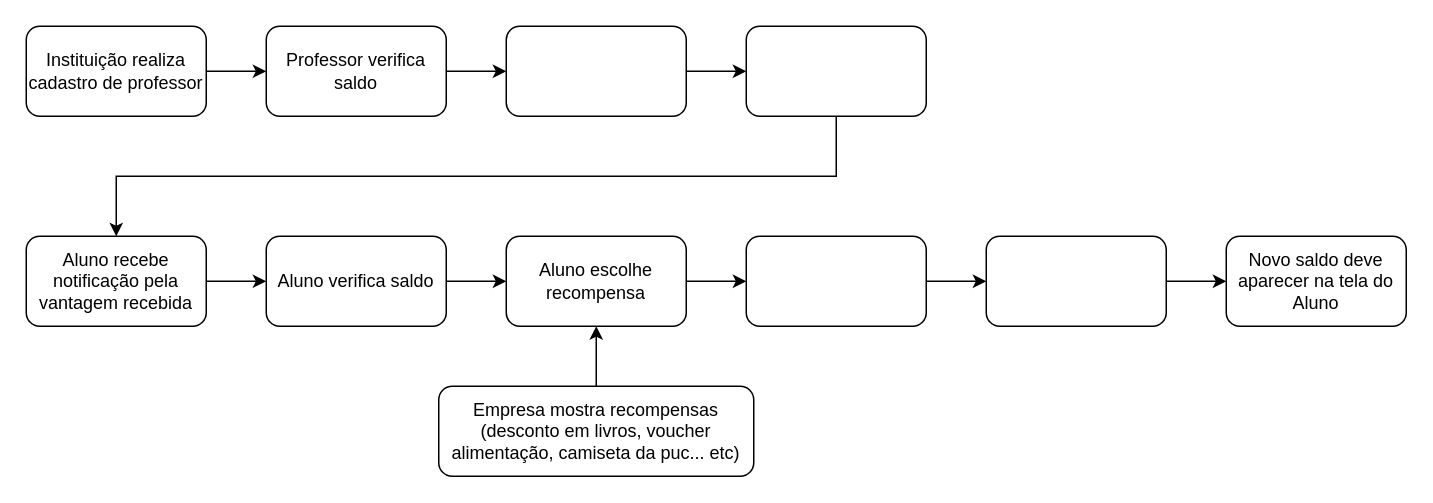
Image size: 1433x503. Some labels were removed from this diagram. Here are the shapes that lost their labels. From the top down, the box of each, then its label:
(505, 25, 686, 116): Professor distribui vantagem para aluno
(745, 25, 926, 116): Saldo total do Professor diminui
(745, 235, 926, 326): Aluno recebe recompensa
(985, 235, 1166, 326): Saldo do Aluno diminui
